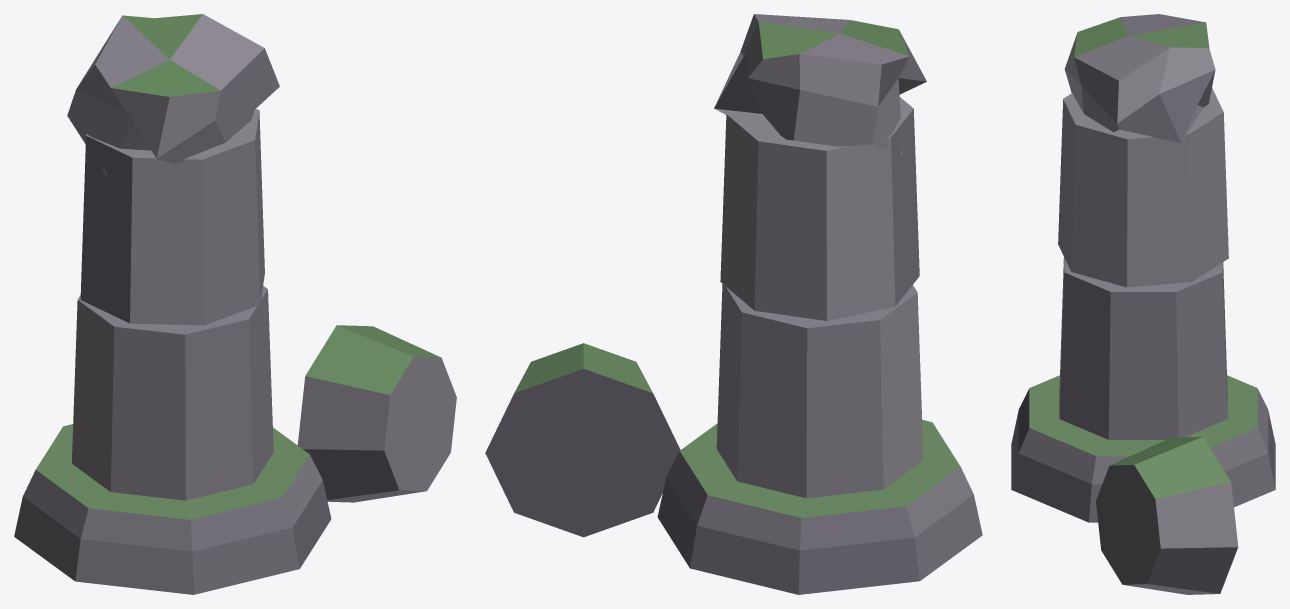
The model's file is Pillar_B.fbx.
3 views of the same model, side by side, from view 1: azimuth 30°, elevation 25°; view 2: azimuth 150°, elevation 25°; view 3: azimuth 270°, elevation 25° (orthographic). The views are drawn at different scales.
Visible parts, largest first — view 1: Pillar_B; view 2: Pillar_B; view 3: Pillar_B.
Part boxes in pixels (left/top/right/bottom): Pillar_B: left=14, top=14, right=456, bottom=594; Pillar_B: left=485, top=14, right=982, bottom=594; Pillar_B: left=1011, top=14, right=1275, bottom=594.
Bounding box in the file's own units: 3.35 × 4.06 × 2.03.
